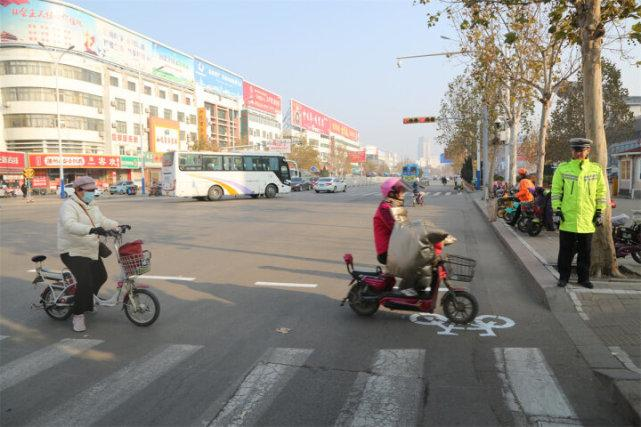bicycle: (506, 198, 545, 236)
bus: (166, 151, 298, 199)
car: (313, 178, 346, 193), (289, 178, 308, 191)
motorcycle: (339, 232, 480, 326), (33, 236, 163, 331)
person: (57, 177, 132, 316), (549, 137, 614, 290), (371, 176, 410, 274), (511, 170, 541, 225), (413, 188, 426, 206)
traffic light: (401, 115, 438, 126)
